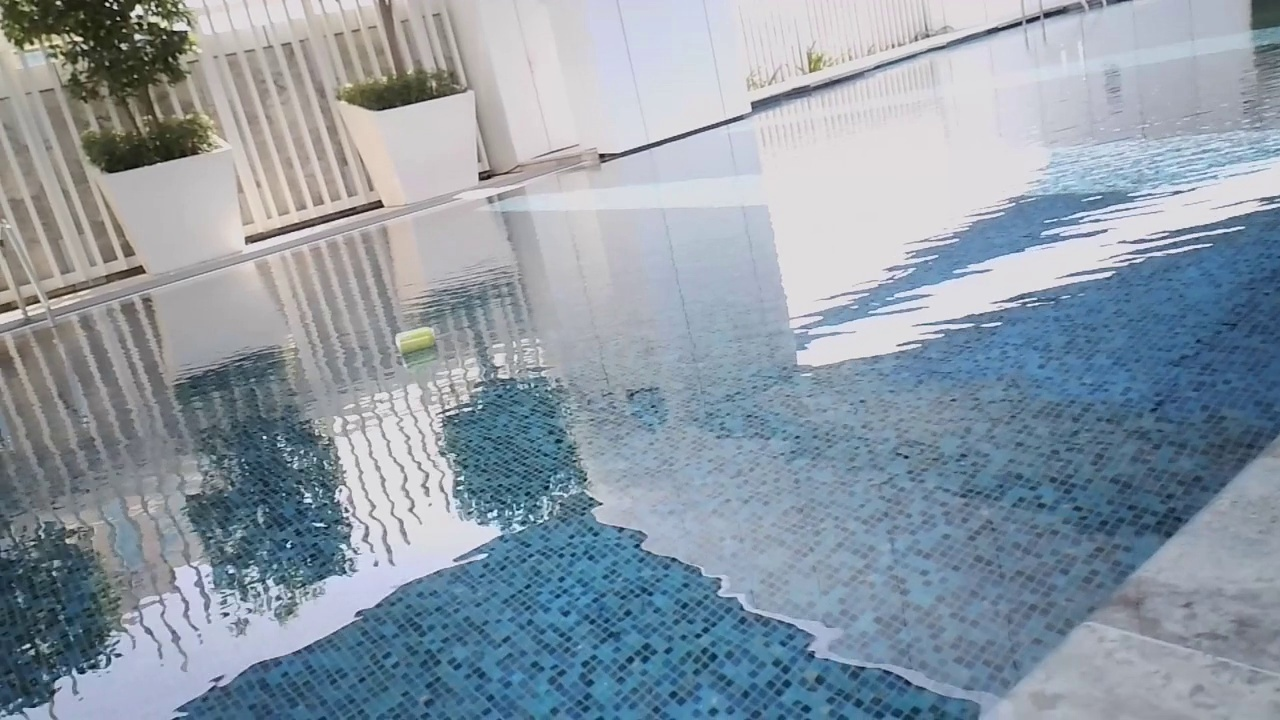debris: (388, 322, 444, 359)
